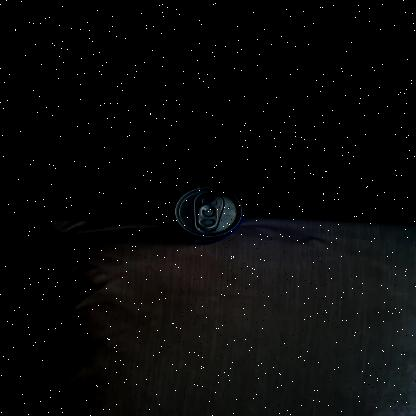Can: (173, 186, 243, 244)
